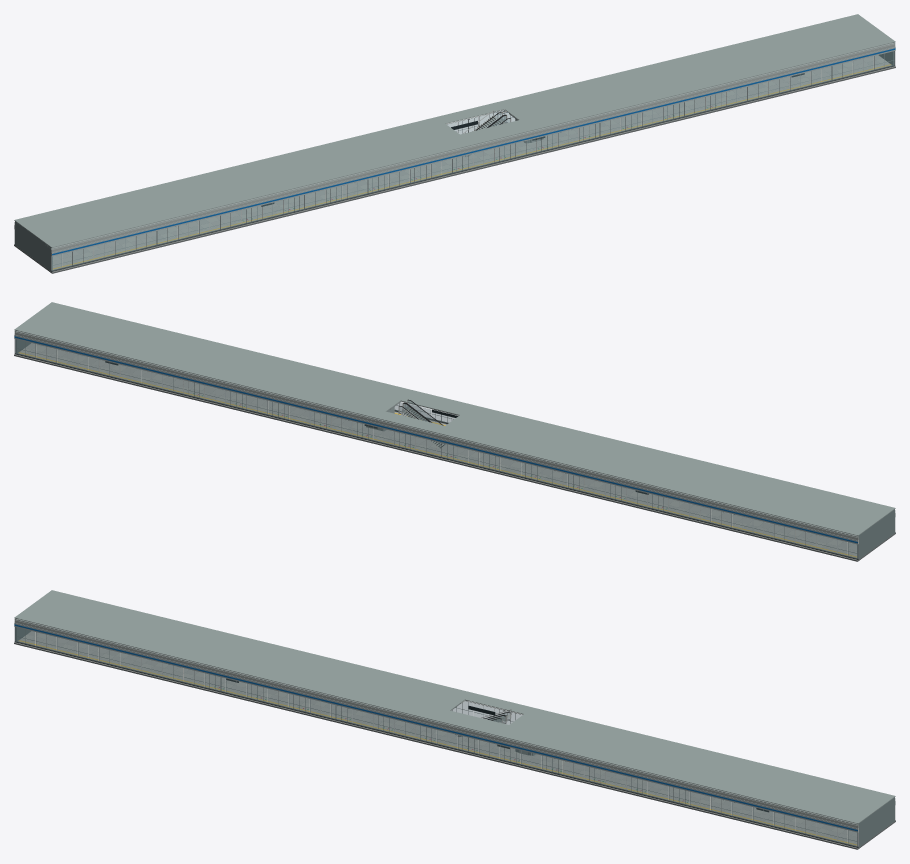
Rendered from sg-bayfront-platform-downtown.glb.
3 renders of one model, top to bottom at view 1: azimuth 30°, elevation 25°; view 2: azimuth 150°, elevation 25°; view 3: azimuth 330°, elevation 25°, orthographic.
Visible parts, largest first — view 1: Ceiling_Platform_Suspended_Liners, Island_Tiled_Platform_Deck, Front_Platform_Screen_Door_Glazing, Front_Platform_Screen_Door_Frames, Front_Tactile_Edge_And_Boarding_Marks, Platform_End_Walls_And_Service_Doors; view 2: Ceiling_Platform_Suspended_Liners, Island_Tiled_Platform_Deck, Rear_Platform_Screen_Door_Glazing, Rear_Platform_Screen_Door_Frames, Rear_Tactile_Edge_And_Boarding_Marks, Platform_End_Walls_And_Service_Doors, Platform_Central_Escalator_And_Stair; view 3: Ceiling_Platform_Suspended_Liners, Island_Tiled_Platform_Deck, Front_Platform_Screen_Door_Glazing, Front_Platform_Screen_Door_Frames, Front_Tactile_Edge_And_Boarding_Marks, Platform_End_Walls_And_Service_Doors.
Boxes of the visible parts, left/top/right/bottom form: Ceiling_Platform_Suspended_Liners: left=14, top=14, right=895, bottom=249; Island_Tiled_Platform_Deck: left=14, top=55, right=895, bottom=273; Front_Platform_Screen_Door_Glazing: left=52, top=51, right=894, bottom=270; Front_Platform_Screen_Door_Frames: left=51, top=44, right=895, bottom=271; Front_Tactile_Edge_And_Boarding_Marks: left=53, top=64, right=892, bottom=270; Platform_End_Walls_And_Service_Doors: left=15, top=42, right=894, bottom=271; Ceiling_Platform_Suspended_Liners: left=14, top=302, right=895, bottom=537; Island_Tiled_Platform_Deck: left=14, top=343, right=895, bottom=561; Rear_Platform_Screen_Door_Glazing: left=15, top=339, right=857, bottom=558; Rear_Platform_Screen_Door_Frames: left=14, top=332, right=858, bottom=559; Rear_Tactile_Edge_And_Boarding_Marks: left=15, top=352, right=856, bottom=557; Platform_End_Walls_And_Service_Doors: left=15, top=330, right=894, bottom=559; Platform_Central_Escalator_And_Stair: left=366, top=399, right=445, bottom=448; Ceiling_Platform_Suspended_Liners: left=14, top=590, right=895, bottom=825; Island_Tiled_Platform_Deck: left=14, top=631, right=895, bottom=849; Front_Platform_Screen_Door_Glazing: left=15, top=627, right=857, bottom=845; Front_Platform_Screen_Door_Frames: left=14, top=620, right=858, bottom=847; Front_Tactile_Edge_And_Boarding_Marks: left=15, top=640, right=856, bottom=845; Platform_End_Walls_And_Service_Doors: left=15, top=618, right=894, bottom=847.
Size of the model in its own units: 140 by 4.69 by 11.
14 materials, 1 textured.
